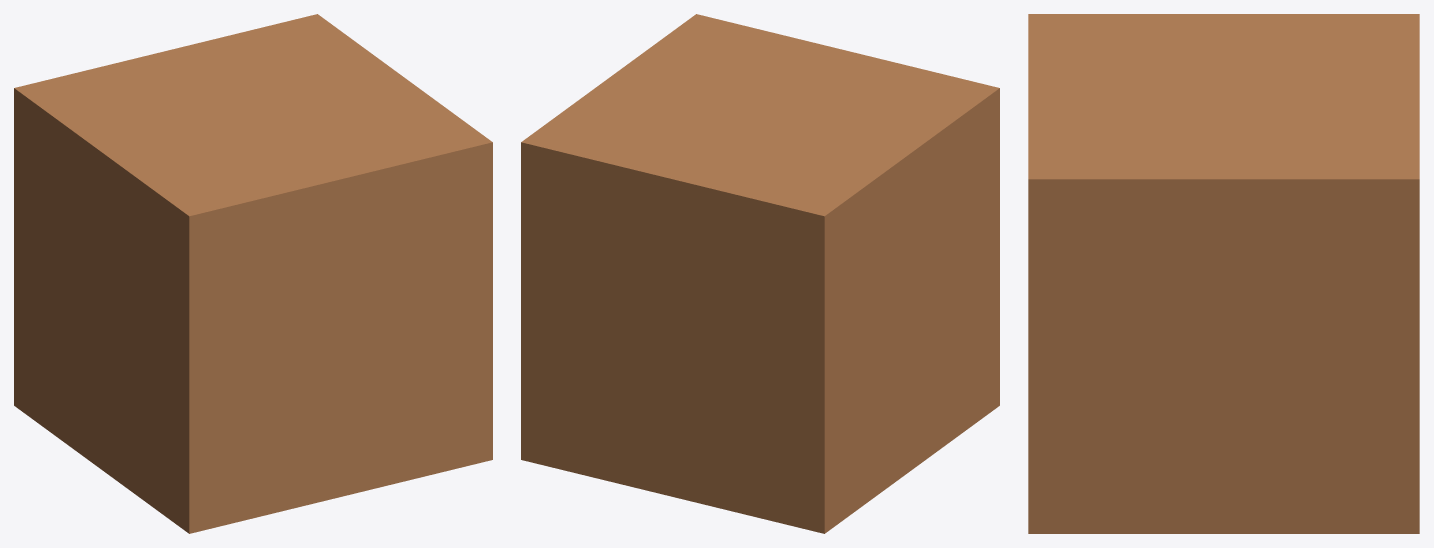
The model's file is hako_a_2.FBX.
3 renders of one model, left to right at view 1: azimuth 30°, elevation 25°; view 2: azimuth 150°, elevation 25°; view 3: azimuth 270°, elevation 25°, orthographic. The views are drawn at different scales.
Visible parts, largest first — view 1: Box001; view 2: Box001; view 3: Box001.
Boxes of the visible parts, x1=… form: Box001: x1=14, y1=14, x2=492, y2=533; Box001: x1=521, y1=14, x2=999, y2=533; Box001: x1=1028, y1=14, x2=1419, y2=533.
Size of the model in its own units: 394 by 394 by 394.
